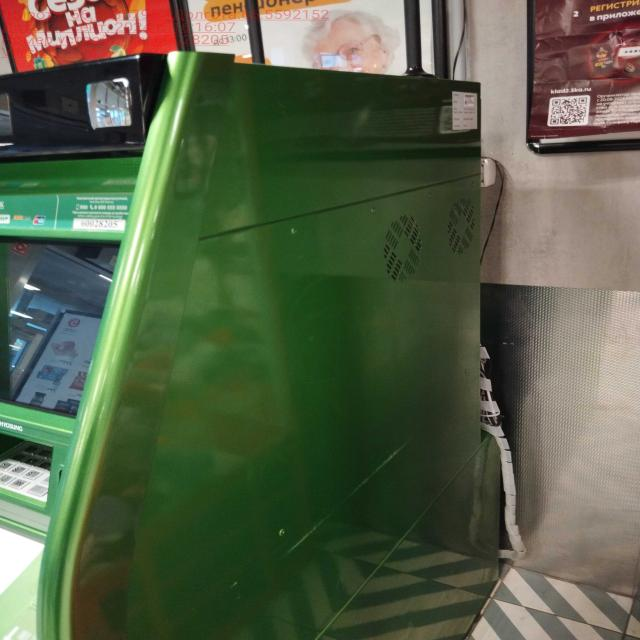bank: (0, 50, 487, 640)
